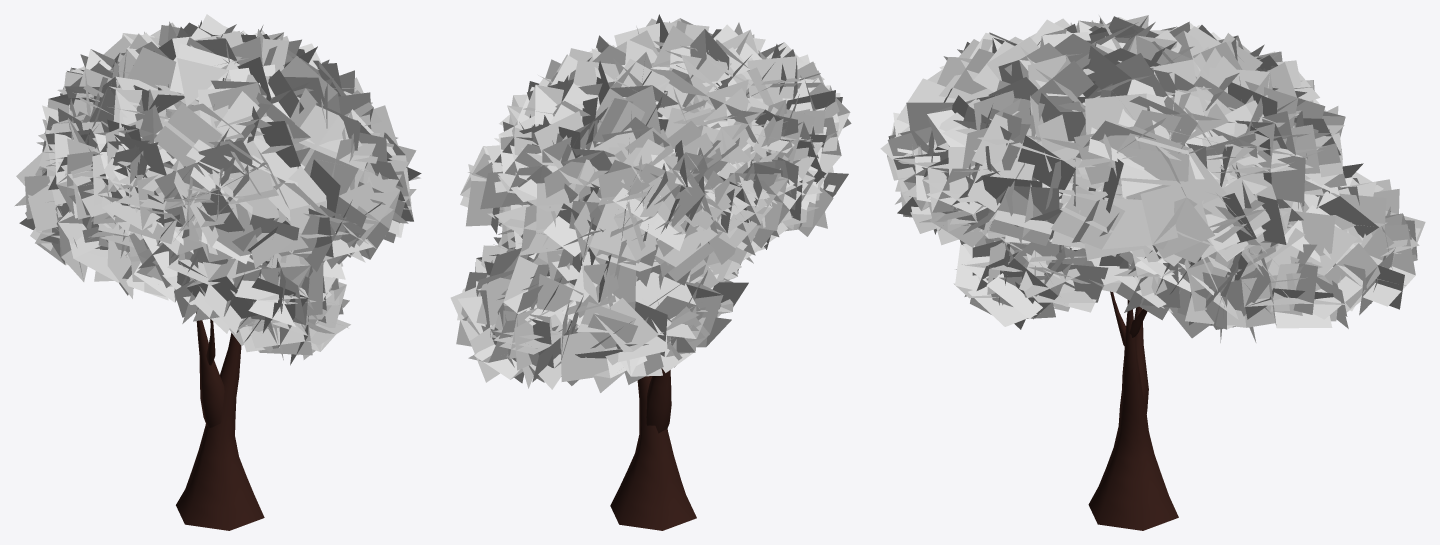
The model's file is tree.fbx.
The picture shows the model from 3 angles, left to right: view 1: azimuth 30°, elevation 25°; view 2: azimuth 150°, elevation 25°; view 3: azimuth 270°, elevation 25°; orthographic projection. The views are drawn at different scales.
Parts seen in each view (by area): view 1: tree; view 2: tree; view 3: tree.
Part boxes in pixels (x1,y1,x2,y2): tree: (14,14,421,530); tree: (450,14,851,530); tree: (880,15,1425,530).
Bounding box in the file's own units: 467 × 688 × 704.
